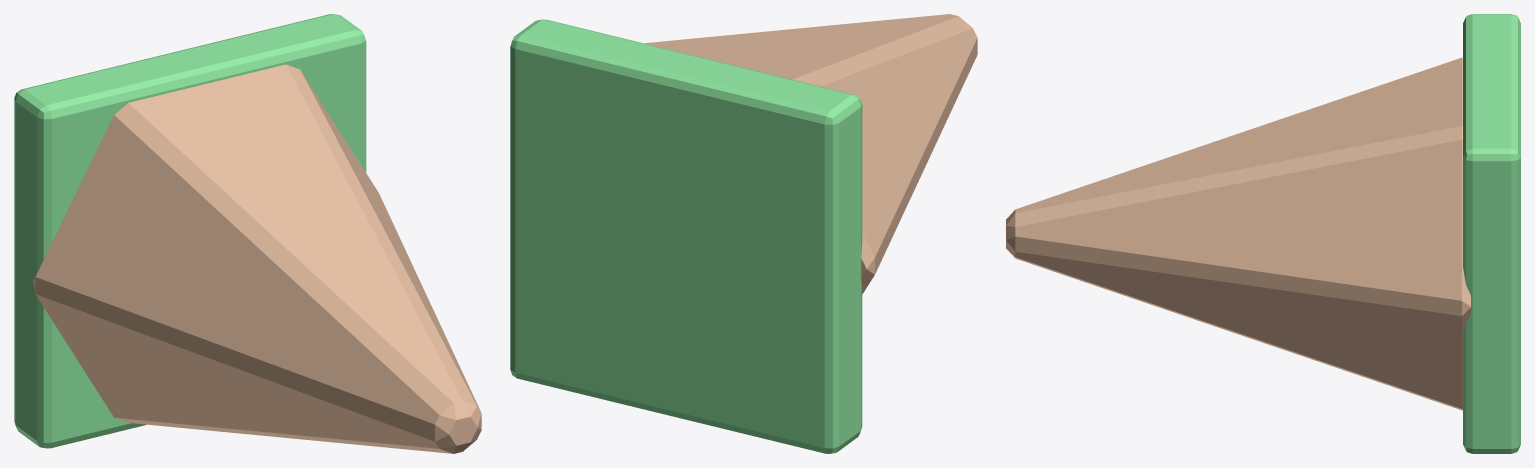
Rendered from Env_FloatingIslandBase.fbx.
The picture shows the model from 3 angles, left to right: view 1: azimuth 30°, elevation 25°; view 2: azimuth 150°, elevation 25°; view 3: azimuth 270°, elevation 25°; orthographic projection. The views are drawn at different scales.
Visible parts, largest first — view 1: CliffCone, GrassDeck; view 2: GrassDeck, CliffCone; view 3: CliffCone, GrassDeck.
Boxes of the visible parts, x1,y1,x2,y2 form: CliffCone: (33, 64, 481, 453); GrassDeck: (14, 14, 366, 448); GrassDeck: (510, 19, 862, 453); CliffCone: (645, 14, 977, 293); CliffCone: (1006, 57, 1470, 410); GrassDeck: (1463, 14, 1520, 453).
Size of the model in its own units: 1.1 by 1.05 by 1.61.
